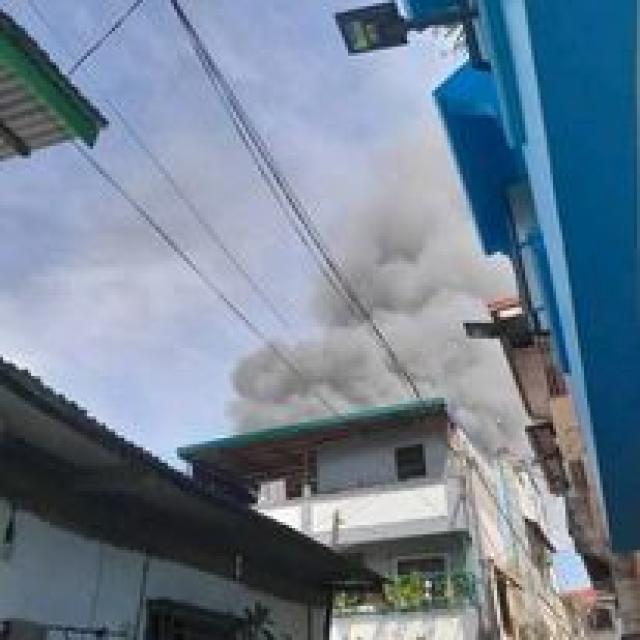Smoke: (269, 210, 491, 388)
